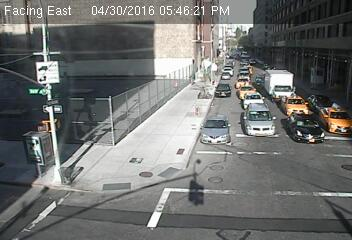neg: (23, 137, 44, 164), (186, 171, 206, 197)
